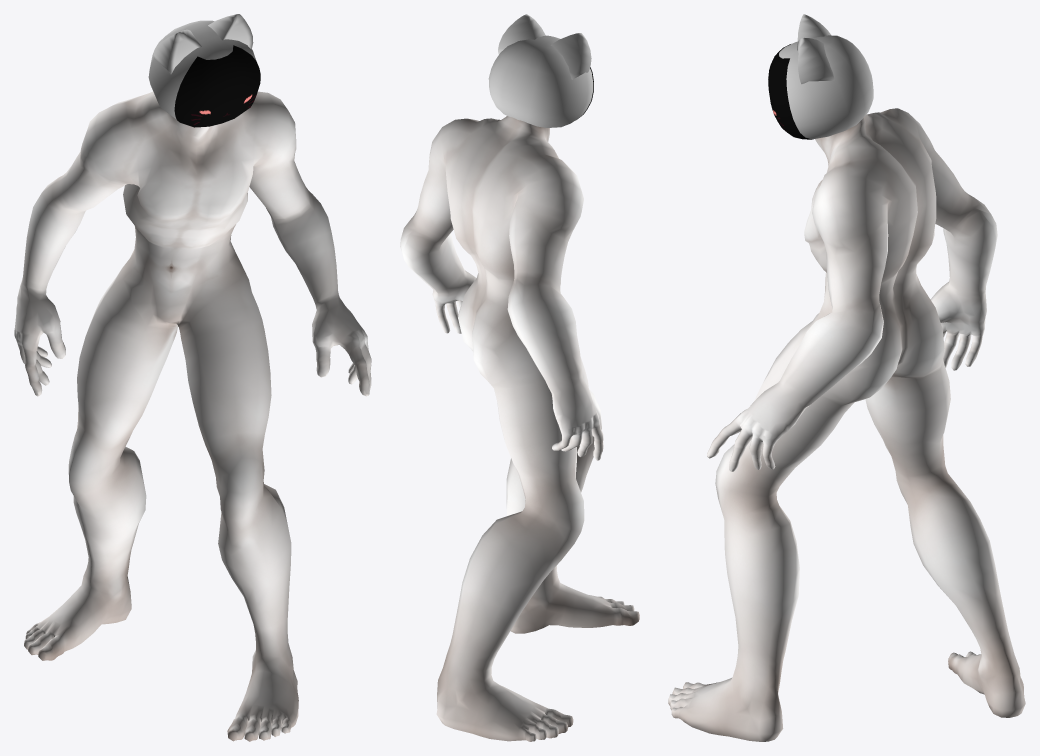
3 views of the same model, side by side, from view 1: azimuth 30°, elevation 25°; view 2: azimuth 150°, elevation 25°; view 3: azimuth 270°, elevation 25° (orthographic). The views are drawn at different scales.
Visible parts, largest first — view 1: Muscle_Body, ______?001, Cat_Head; view 2: Muscle_Body, Cat_Head; view 3: Muscle_Body, Cat_Head, ______?001.
Part boxes in pixels (box(x1,y1,x2,y2)): Muscle_Body: box(14, 91, 371, 741); ______?001: box(174, 45, 260, 127); Cat_Head: box(148, 14, 256, 119); Muscle_Body: box(400, 116, 639, 741); Cat_Head: box(488, 14, 593, 127); Muscle_Body: box(668, 108, 1025, 741); Cat_Head: box(779, 14, 873, 138); ______?001: box(768, 44, 813, 139).
Size of the model in its own units: 11.18 by 27.78 by 13.06.
